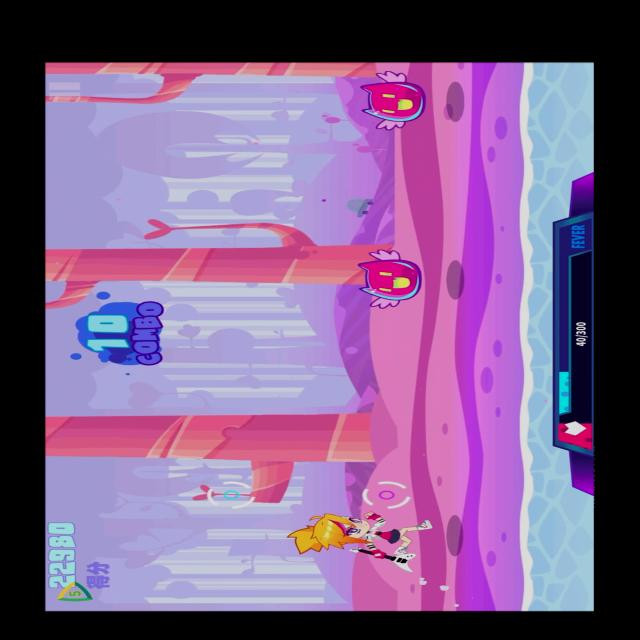Ground Monster - Red Devil: (358, 66, 430, 132), (350, 245, 424, 309)
